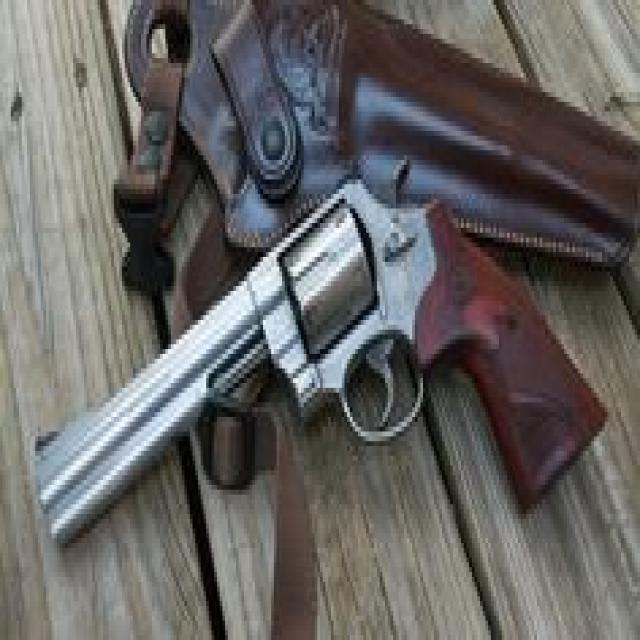revolver: (11, 110, 617, 608)
